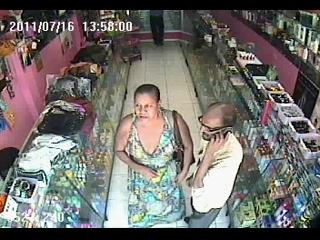Normal: (104, 84, 196, 227), (186, 102, 244, 227), (149, 10, 165, 46)
